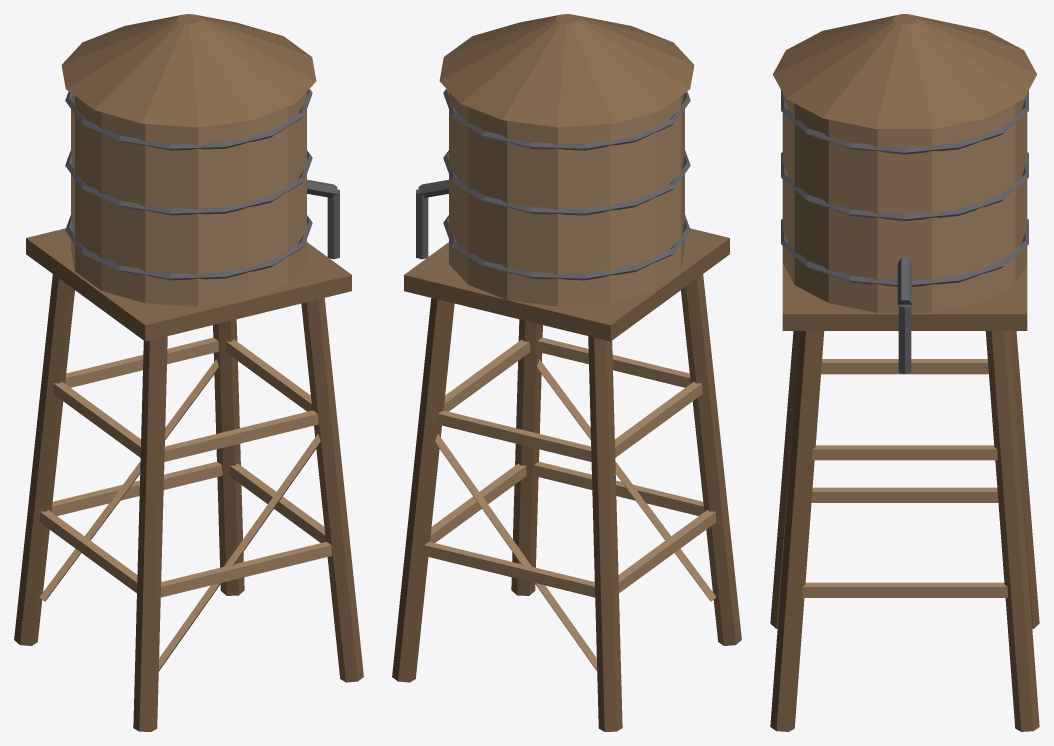
Rendered from SM_Water_Tower.glb.
3 views of the same model, side by side, from view 1: azimuth 30°, elevation 25°; view 2: azimuth 150°, elevation 25°; view 3: azimuth 270°, elevation 25° (orthographic). The views are drawn at different scales.
Parts seen in each view (by area): view 1: SM_Water_Tower; view 2: SM_Water_Tower; view 3: SM_Water_Tower.
Boxes of the visible parts, x1,y1,x2,y2 form: SM_Water_Tower: (14,14,363,731); SM_Water_Tower: (392,14,741,731); SM_Water_Tower: (770,14,1039,731).
Size of the model in its own units: 2.55 by 5.93 by 2.2.
